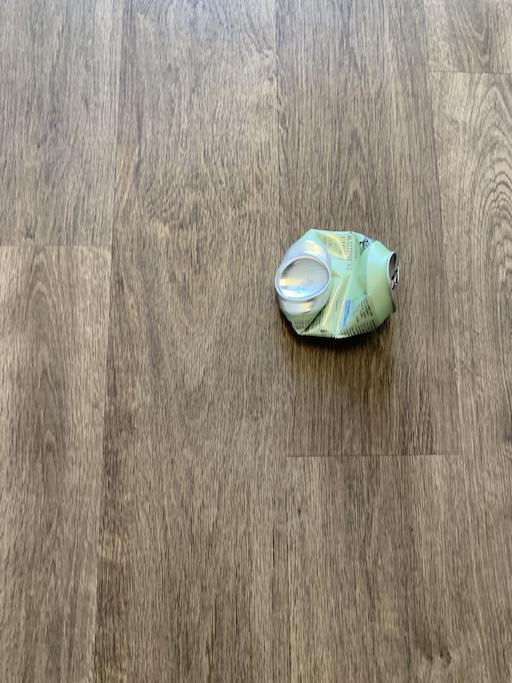Aluminum can: (264, 214, 414, 350)
